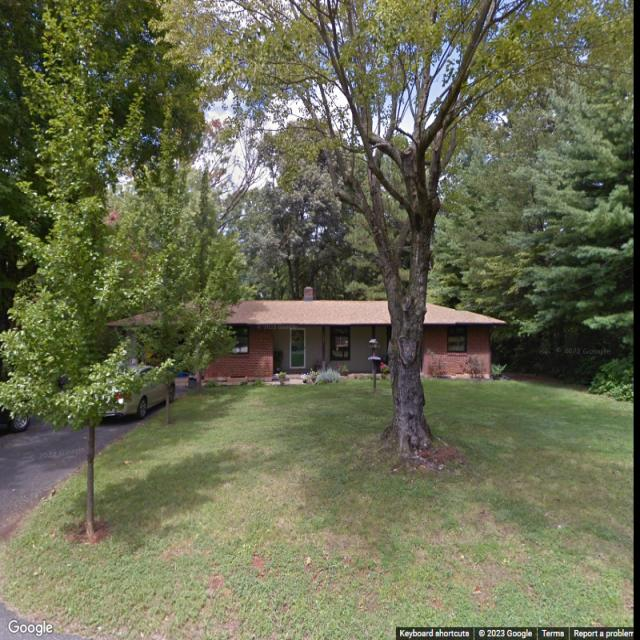House: (106, 286, 508, 380)
